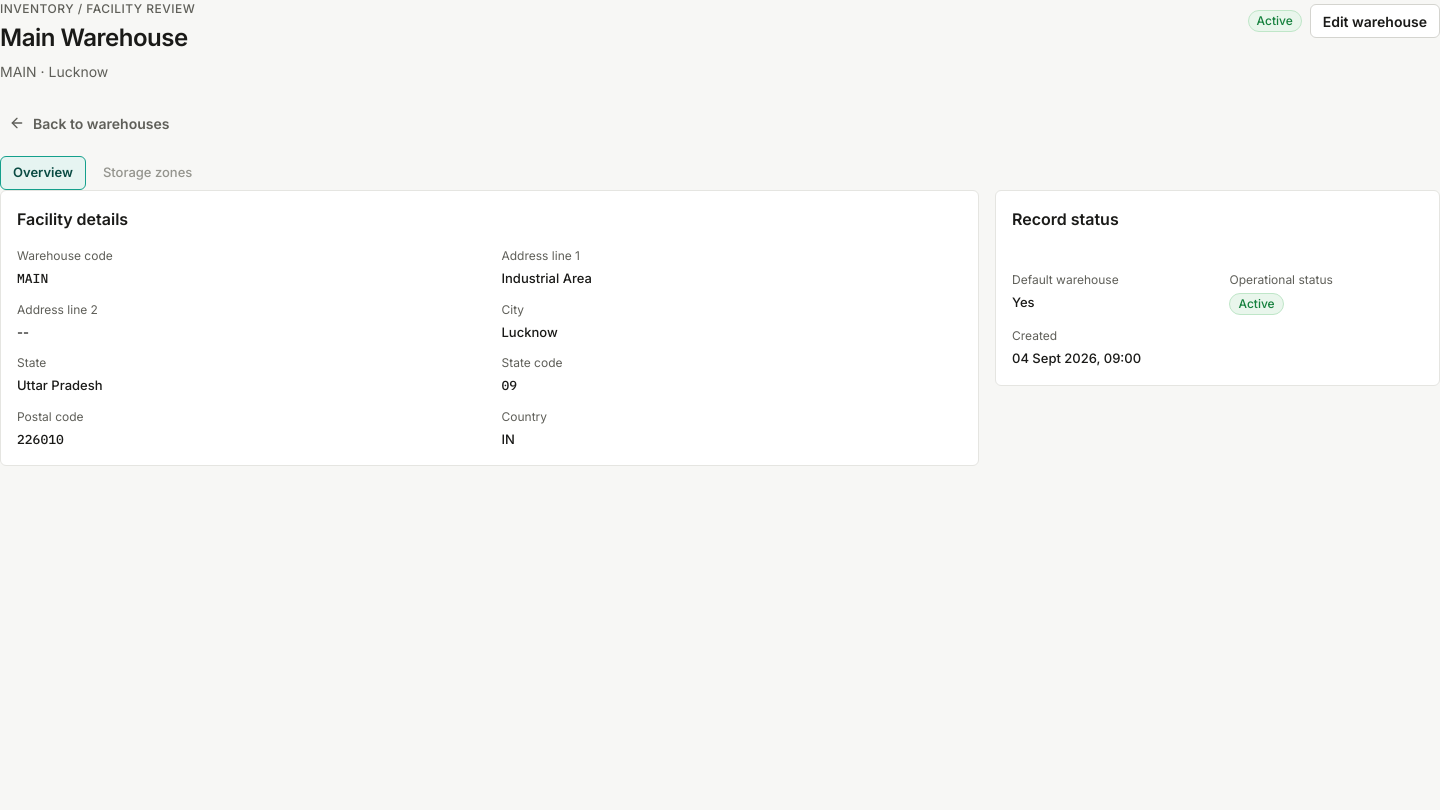
Test: WarehouseDetailPage › does not pretend a saved zone capacity can be cleared
Check: the heading "Main Warehouse" is shown, box x1=0 y1=22 x2=195 y2=53
Click the tab "Storage zones": (148, 173) x1=90 y1=156 x2=205 y2=190
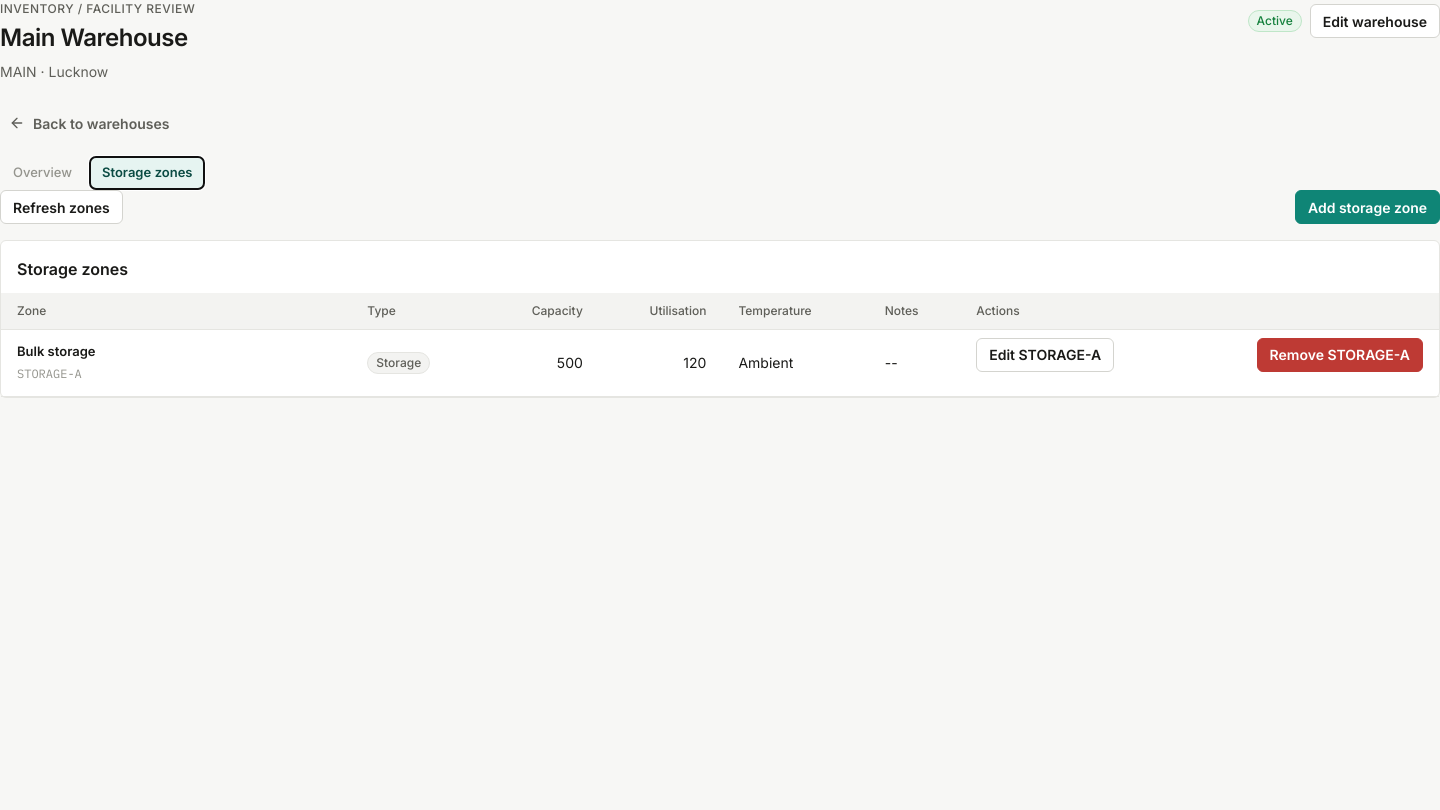
Click the button "Edit STORAGE-A": (1045, 355) x1=976 y1=338 x2=1114 y2=372
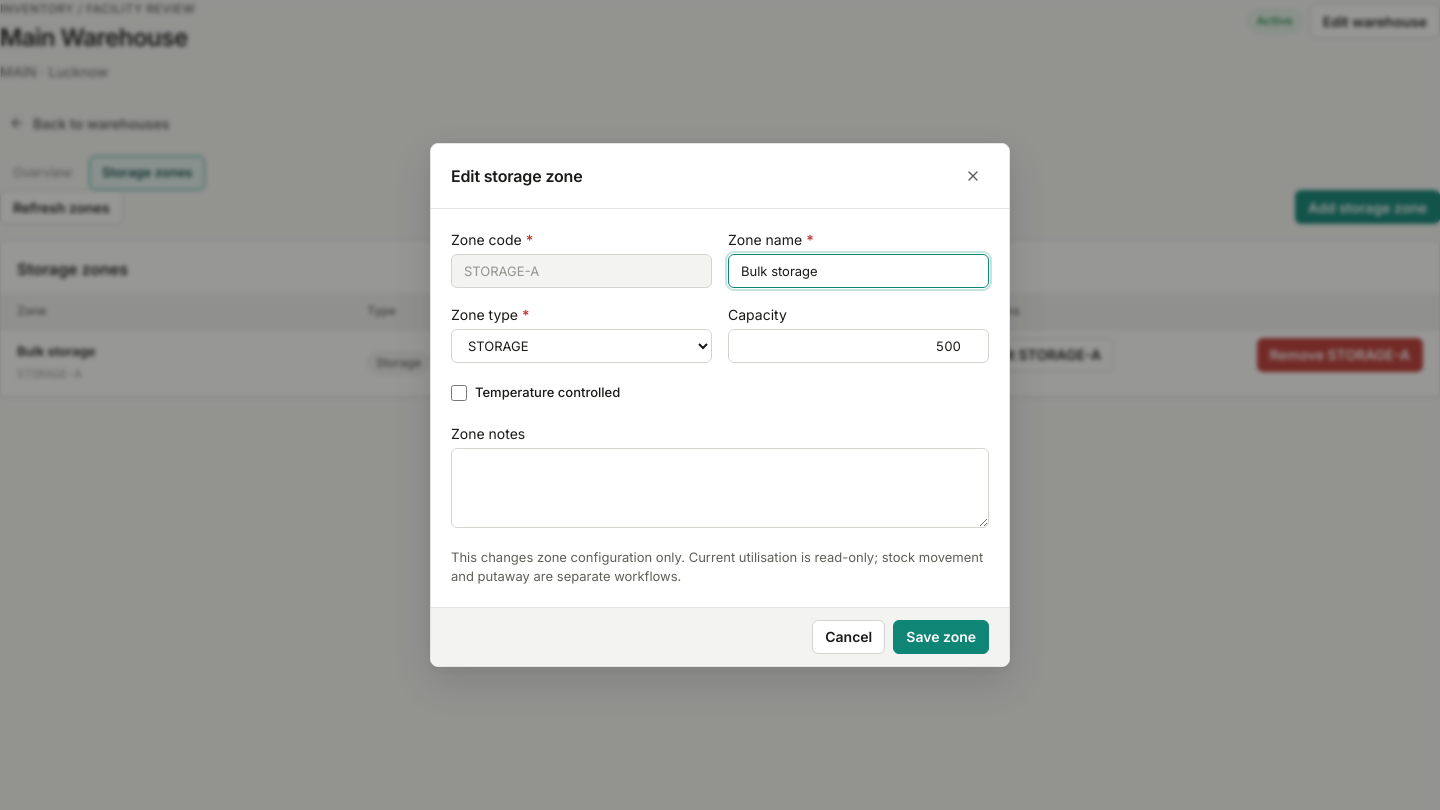
Check: the field labelled "Zone code *" is disabled, box x1=451 y1=254 x2=712 y2=288
Clear the number field labelled "Capacity": (858, 346) x1=728 y1=329 x2=989 y2=363
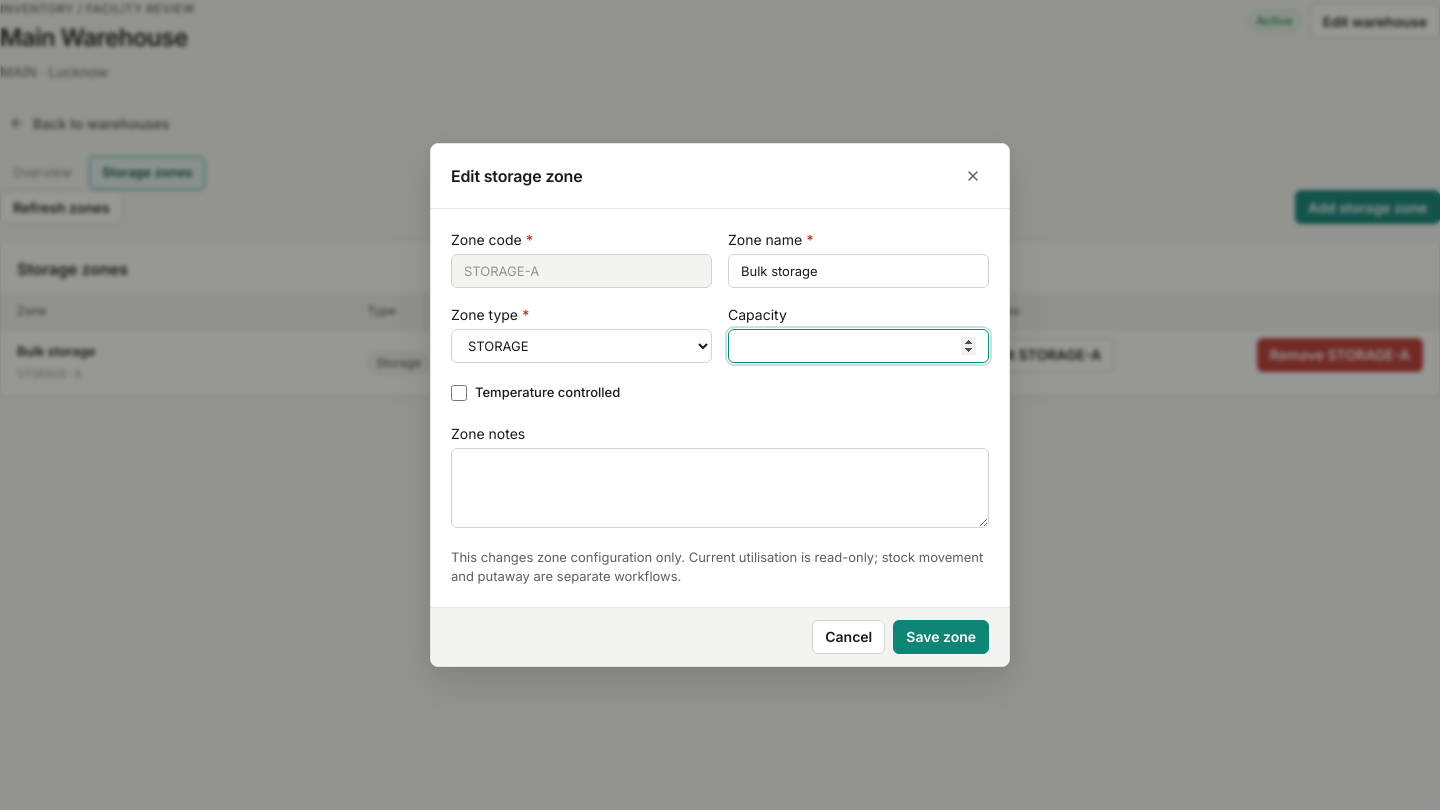
Click the button "Save zone": (941, 637) x1=893 y1=620 x2=989 y2=654
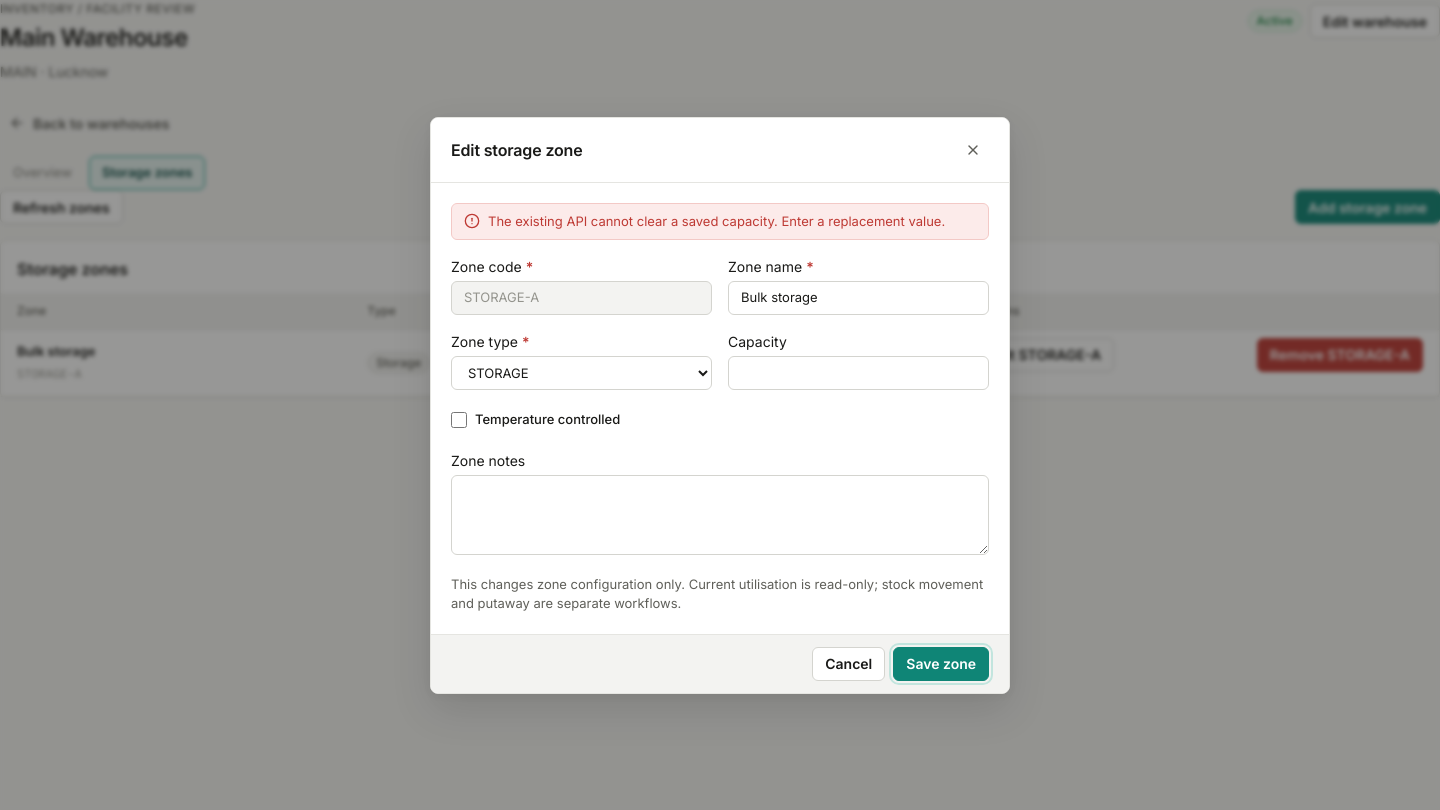
Check: the message shows "cannot clear a saved capacity", box x1=488 y1=212 x2=945 y2=228
